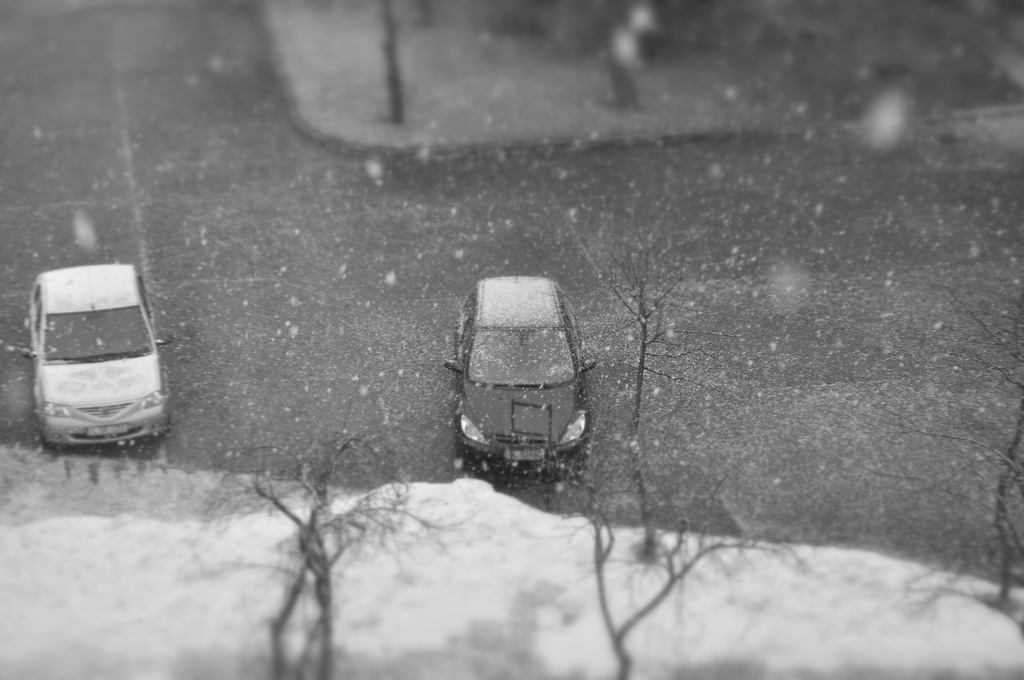Car: (442, 264, 600, 477), (8, 253, 173, 455)
